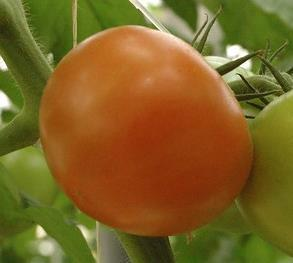tomato: (39, 24, 252, 236)
